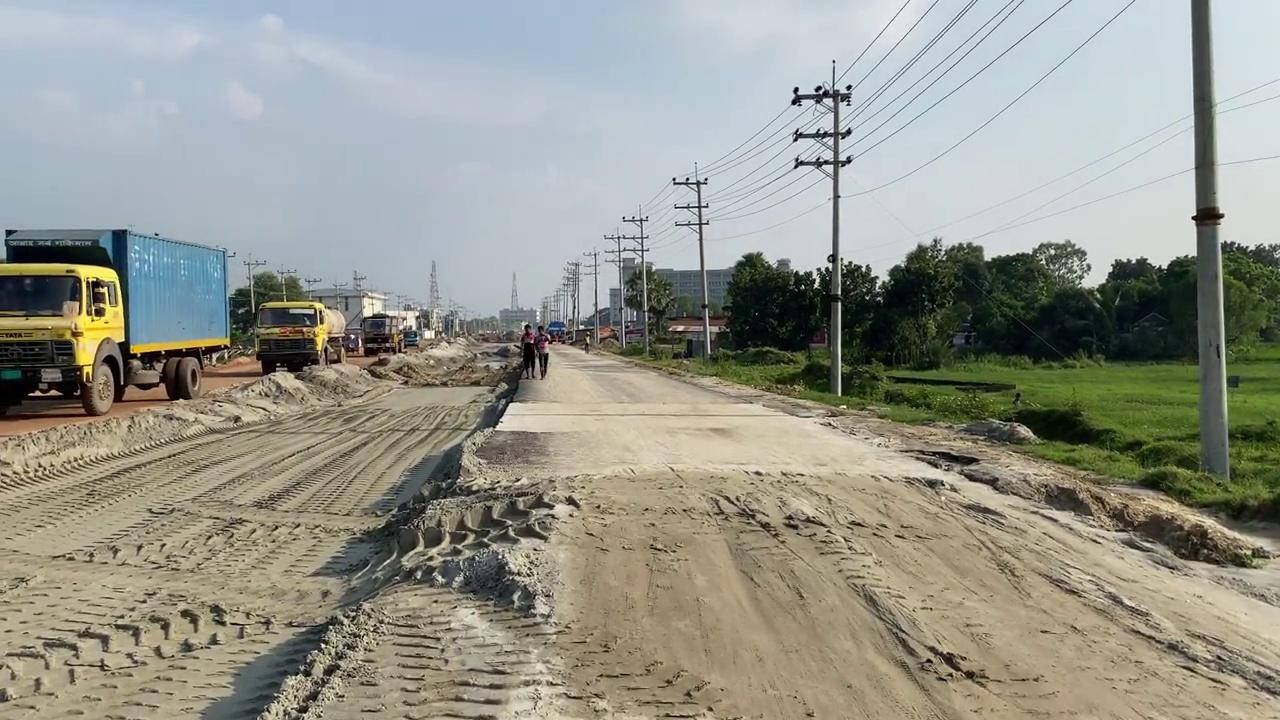Muddy road: (258, 337, 1278, 718), (0, 334, 521, 718)
Pole: (1189, 0, 1230, 482), (827, 59, 843, 396)
Tree: (0, 226, 233, 415), (253, 299, 347, 375), (360, 312, 405, 356), (323, 306, 347, 363), (396, 309, 420, 347)
